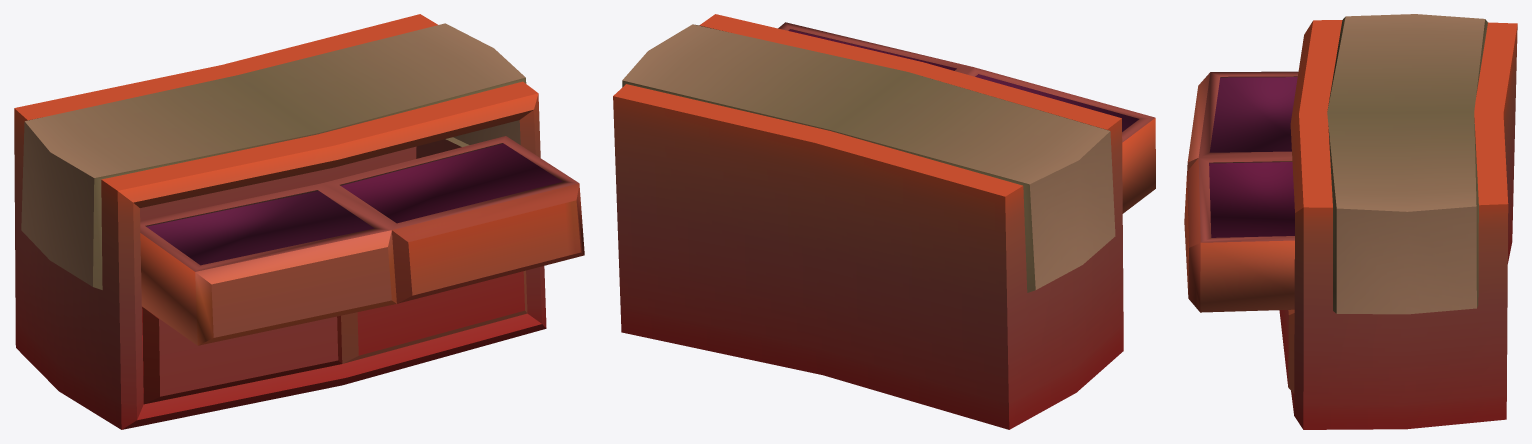
Rendered from dresserColliderLowered.fbx.
The picture shows the model from 3 angles, left to right: view 1: azimuth 30°, elevation 25°; view 2: azimuth 150°, elevation 25°; view 3: azimuth 270°, elevation 25°; orthographic projection. The views are drawn at different scales.
Parts seen in each view (by area): view 1: boatDresser; view 2: boatDresser; view 3: boatDresser.
Part boxes in pixels (x1,y1,x2,y2): boatDresser: (14,14,584,429); boatDresser: (613,14,1155,429); boatDresser: (1184,14,1517,429).
Size of the model in its own units: 1.82 by 0.9362 by 1.28.
